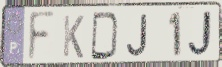1: (167, 11, 182, 60)
D: (89, 11, 121, 62)
F: (26, 10, 57, 66)
J: (187, 9, 216, 59), (125, 13, 149, 58)
K: (61, 13, 86, 60)
